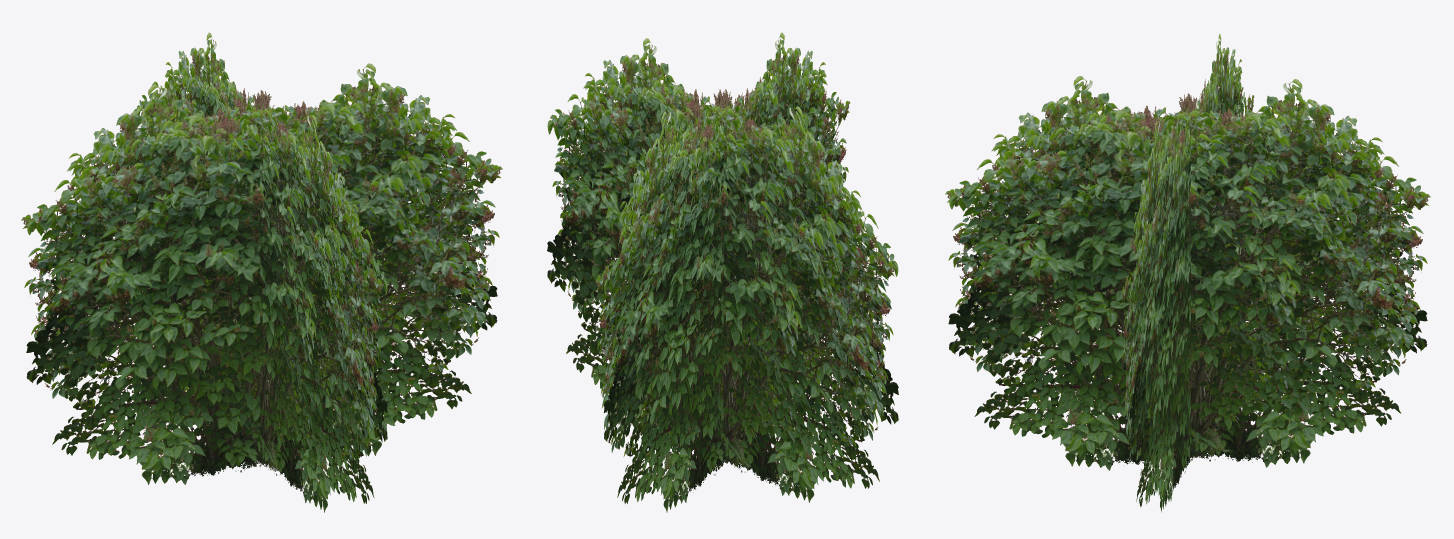
Rendered from SM_Bush_Leaves_03.fbx.
The picture shows the model from 3 angles, left to right: view 1: azimuth 30°, elevation 25°; view 2: azimuth 150°, elevation 25°; view 3: azimuth 270°, elevation 25°; orthographic projection. The views are drawn at different scales.
Parts seen in each view (by area): view 1: SM_Bush_Leaves_03; view 2: SM_Bush_Leaves_03; view 3: SM_Bush_Leaves_03.
Part boxes in pixels (x1,y1,x2,y2): SM_Bush_Leaves_03: (21, 32, 502, 512); SM_Bush_Leaves_03: (547, 32, 898, 512); SM_Bush_Leaves_03: (945, 34, 1430, 512).
Bounding box in the file's own units: 309 × 279 × 318.
